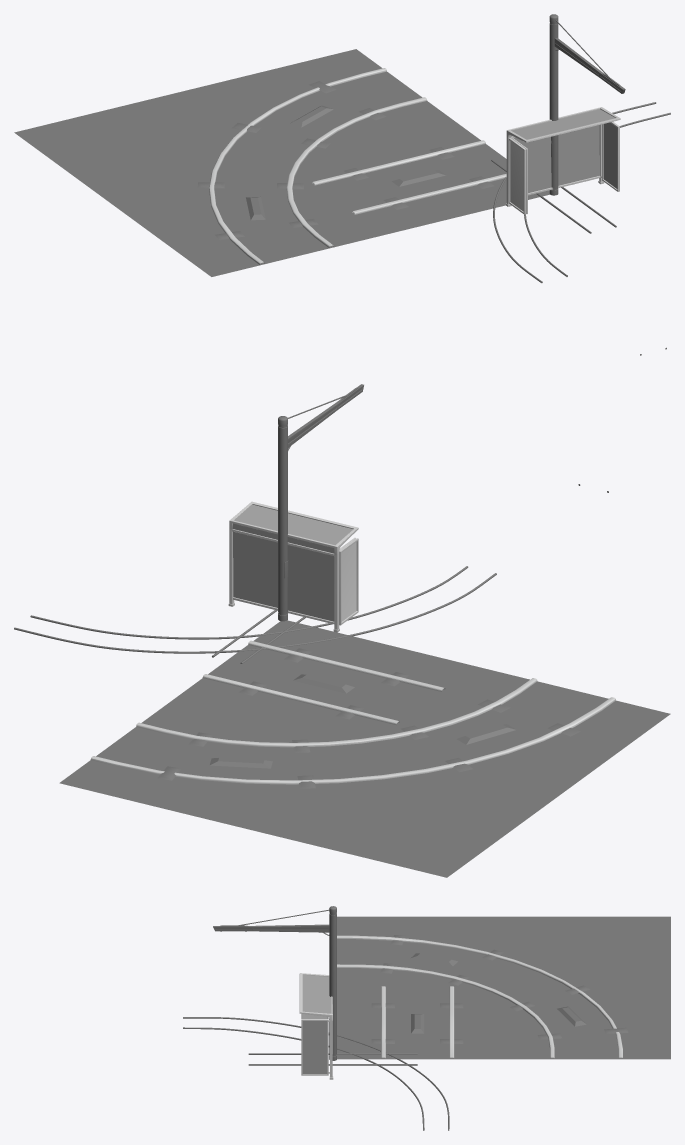
Rendered from Tram.fbx.
3 views of the same model, one above another, from view 1: azimuth 30°, elevation 25°; view 2: azimuth 150°, elevation 25°; view 3: azimuth 270°, elevation 25° (orthographic). The views are drawn at different scales.
Visible parts, largest first — view 1: SM_TramRail2, SM_TramRail, SM_TramStop, SM_Pole, SM_Cable2; view 2: SM_TramRail2, SM_TramRail, SM_TramStop, SM_Pole, SM_Cable2; view 3: SM_TramRail2, SM_TramRail, SM_TramStop, SM_Pole, SM_Cable2, SM_Cable1.
Boxes of the visible parts, bbox=[...] form: SM_TramRail2: bbox=[14, 49, 549, 276]; SM_TramRail: bbox=[284, 121, 549, 218]; SM_TramStop: bbox=[506, 107, 620, 214]; SM_Pole: bbox=[549, 14, 625, 195]; SM_Cable2: bbox=[493, 102, 670, 355]; SM_TramRail2: bbox=[59, 621, 670, 877]; SM_TramRail: bbox=[171, 620, 476, 748]; SM_TramStop: bbox=[228, 501, 358, 632]; SM_Pole: bbox=[278, 384, 363, 621]; SM_Cable2: bbox=[14, 484, 608, 653]; SM_TramRail2: bbox=[337, 916, 670, 1059]; SM_TramRail: bbox=[337, 986, 501, 1059]; SM_TramStop: bbox=[299, 973, 333, 1079]; SM_Pole: bbox=[213, 906, 336, 1060]; SM_Cable2: bbox=[183, 1017, 449, 1130]; SM_Cable1: bbox=[248, 1053, 417, 1065].
Size of the model in its own units: 1794 by 600 by 2334.
